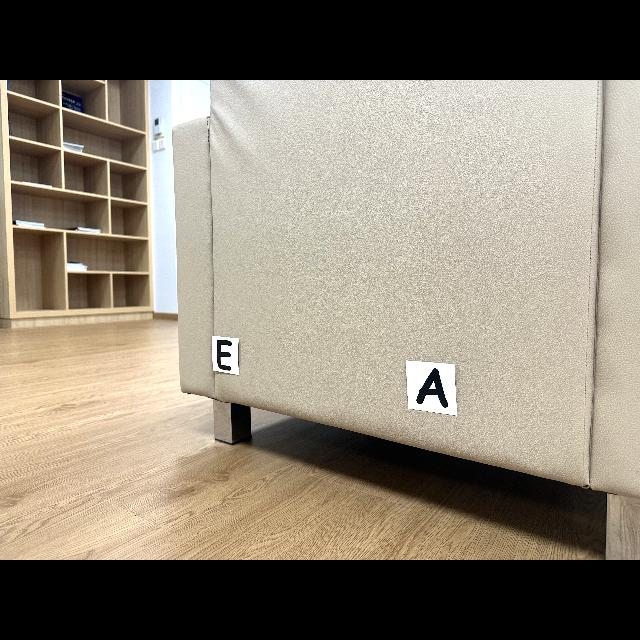A: (416, 369, 449, 408)
E: (216, 339, 232, 371)
